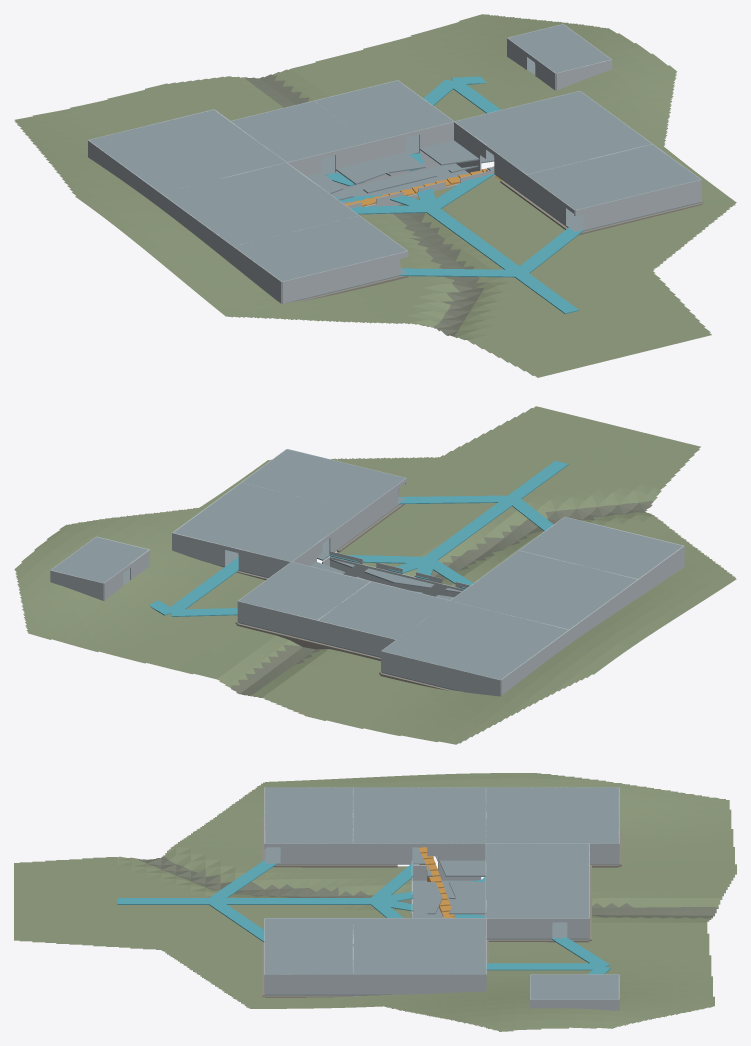
File: open-circulation.glb
The picture shows the model from 3 angles, top to bottom: view 1: azimuth 30°, elevation 25°; view 2: azimuth 150°, elevation 25°; view 3: azimuth 270°, elevation 25°; orthographic projection. The views are drawn at different scales.
Parts seen in each view (by area): view 1: Saved editor macroterrain WLD-08, Ceiling cap lab, Ceiling cap dorm, Ceiling cap generator, Ceiling cap store, Ceiling cap mess, Ceiling cap radio, Ceiling cap records, Flat route shell Wall store S, Flat route shell Wall mess S, Ceiling cap shelter, Wall lab W (+18 smaller); view 2: Saved editor macroterrain WLD-08, Ceiling cap generator, Ceiling cap dorm, Ceiling cap lab, Ceiling cap mess, Ceiling cap store, Ceiling cap records, Ceiling cap radio, Wall generator N, Ceiling cap shelter, Flat route shell Wall tunnel S, Wall records N (+14 smaller); view 3: Saved editor macroterrain WLD-08, Ceiling cap lab, Ceiling cap generator, Ceiling cap dorm, Ceiling cap store, Ceiling cap mess, Ceiling cap radio, Ceiling cap records, Wall dorm E, Ceiling cap shelter, Wall mess E, Wall store E (+18 smaller).
Part boxes in pixels (x1,y1,x2,y2): Saved editor macroterrain WLD-08: (14, 14, 736, 377); Ceiling cap lab: (161, 162, 358, 246); Ceiling cap dorm: (454, 91, 651, 174); Ceiling cap generator: (89, 109, 285, 192); Ceiling cap store: (234, 216, 407, 281); Ceiling cap mess: (527, 144, 700, 210); Ceiling cap radio: (231, 101, 370, 162); Ceiling cap records: (315, 80, 453, 141); Flat route shell Wall store S: (282, 251, 407, 303); Flat route shell Wall mess S: (575, 179, 701, 230); Ceiling cap shelter: (508, 24, 610, 73); Wall lab W: (160, 193, 233, 264); Saved editor macroterrain WLD-08: (14, 406, 736, 744); Ceiling cap generator: (382, 601, 568, 679); Ceiling cap dorm: (173, 483, 359, 561); Ceiling cap lab: (450, 550, 636, 629); Ceiling cap mess: (242, 449, 405, 511); Ceiling cap store: (519, 517, 682, 578); Ceiling cap records: (238, 562, 369, 619); Ceiling cap radio: (318, 581, 449, 639); Wall generator N: (381, 651, 500, 696); Ceiling cap shelter: (51, 537, 148, 583); Flat route shell Wall tunnel S: (330, 551, 470, 597); Wall records N: (237, 601, 317, 641); Saved editor macroterrain WLD-08: (14, 773, 736, 1031); Ceiling cap lab: (353, 787, 485, 843); Ceiling cap generator: (486, 787, 618, 843); Ceiling cap dorm: (353, 918, 485, 974); Ceiling cap store: (265, 787, 353, 843); Ceiling cap mess: (265, 918, 353, 974); Ceiling cap radio: (486, 843, 589, 880); Ceiling cap records: (486, 881, 589, 918); Wall dorm E: (353, 974, 485, 994); Ceiling cap shelter: (530, 974, 618, 999); Wall mess E: (265, 974, 353, 994); Wall store E: (280, 843, 353, 863).
Bounding box in the file's own units: 83 × 5.66 × 98.
